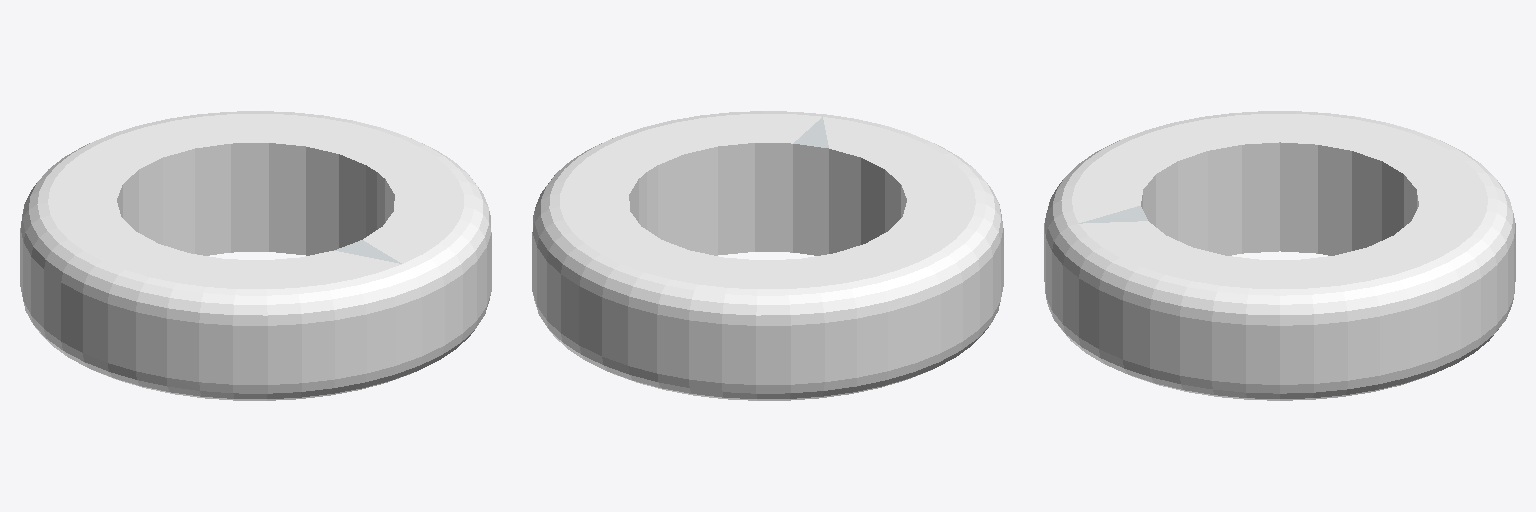
URDF robot description (TIRE):
<?xml version="1.0"?>
<robot name="TIRE"
       xmlns:xi="http://www.w3.org/2001/XInclude">
  <link name="HANDBASE">
    <visual>
      <origin xyz="0 0 0" rpy="0 -0 0"/>
      <geometry>
        <mesh filename="package://rm_debris_vision/models/TIRE_meshes/HANDBASE_mesh.dae" scale="1 1 1" />
      </geometry>
    </visual>
    <collision>
      <origin xyz="0 0 0" rpy="0 -0 0"/>
      <geometry>
        <mesh filename="package://rm_debris_vision/models/TIRE_meshes/HANDBASE_mesh.dae" scale="1 1 1" />
      </geometry>
    </collision>
    <inertial>
      <mass value="1.22366" />
      <origin xyz="0.09829 0.00402 -0.00197" rpy="0 -0 0"/>
      <inertia ixx="0.00198" ixy="0.00044" ixz="-0.00015" iyy="0.00506" iyz="5e-05" izz="0.00374"/>
    </inertial>
  </link>
  <gazebo reference="HANDBASE">
    <mu1>0.9</mu1>
    <mu2>0.9</mu2>
  </gazebo>
</robot>

--- What the picture shows (computed from the rendered views, not written in the file) ---
3 views of the same robot in one strip: view 1: azimuth 30°, elevation 25°; view 2: azimuth 150°, elevation 25°; view 3: azimuth 270°, elevation 25° (orthographic).
Robot: TIRE — 1 links, 0 joints (none); root link HANDBASE; default pose: all joints at 0.
Visible links, largest first — view 1: HANDBASE; view 2: HANDBASE; view 3: HANDBASE.
Boxes of the visible links, x1,y1,x2,y2 form: HANDBASE: [20, 111, 491, 400]; HANDBASE: [532, 111, 1003, 400]; HANDBASE: [1044, 111, 1515, 400].
Bounding box of the posed robot: 0.6851 × 0.6855 × 0.175 m (x, y, z).
1 mesh visuals loaded from 1 distinct referenced files (1 Collada DAE).